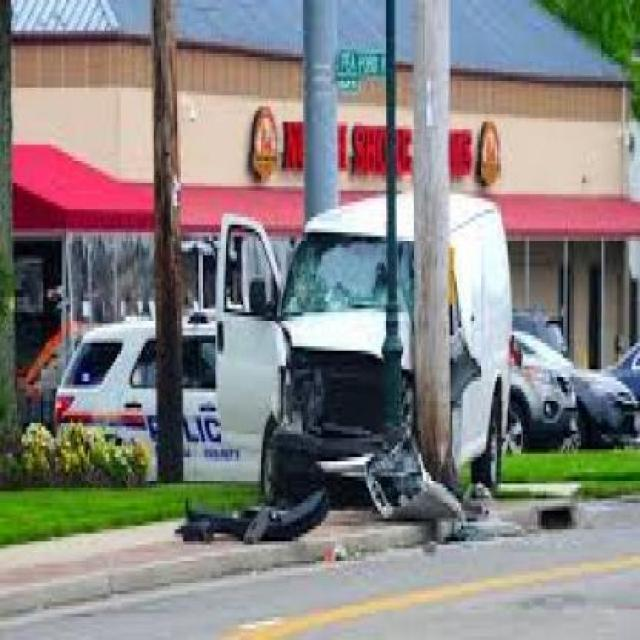accident: (196, 173, 519, 522)
